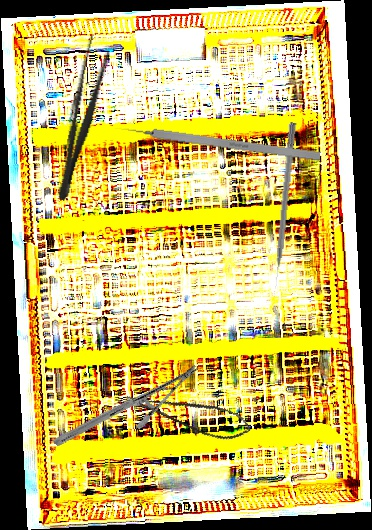Dressing Forceps: (48, 33, 114, 204)
Hook Surgical: (114, 122, 321, 162)
Micro Scissor: (123, 372, 255, 451)
Needle Holder: (52, 323, 200, 488)
Pusher: (270, 121, 297, 290)
